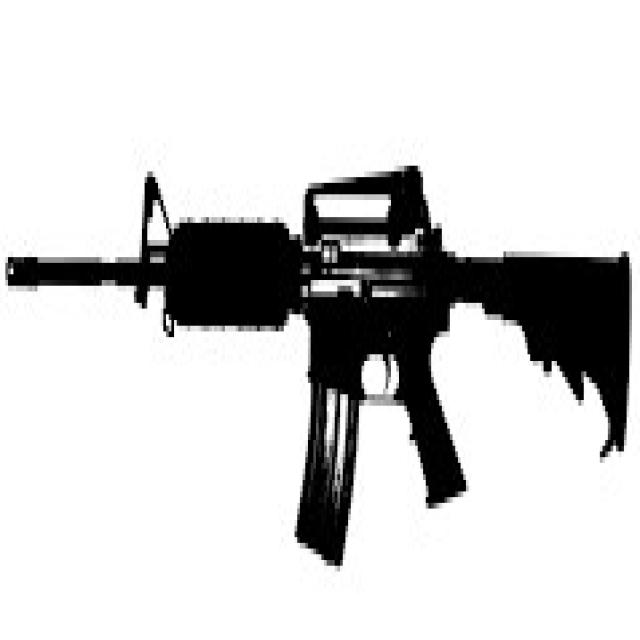rifle: (1, 155, 633, 578)
